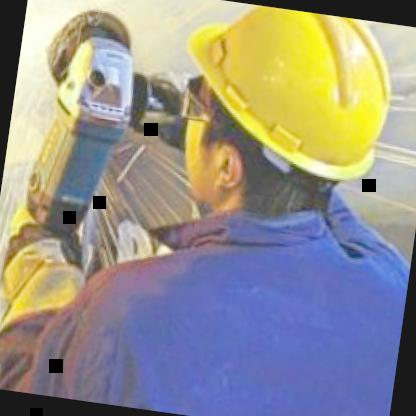helmet: (117, 0, 416, 242)
